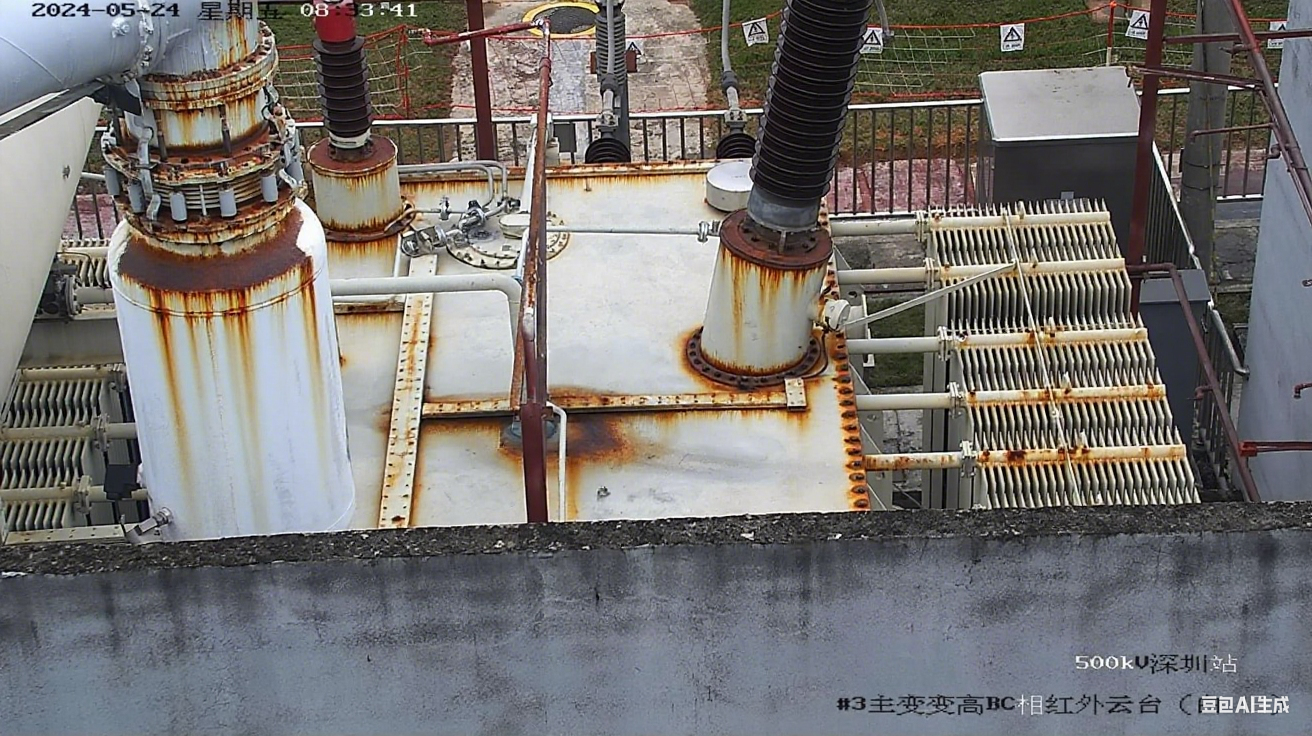HTX: (98, 13, 333, 541), (860, 256, 1198, 473), (671, 206, 873, 512), (413, 378, 827, 521), (330, 295, 424, 529), (506, 53, 552, 415), (307, 132, 417, 261), (417, 156, 710, 194)
